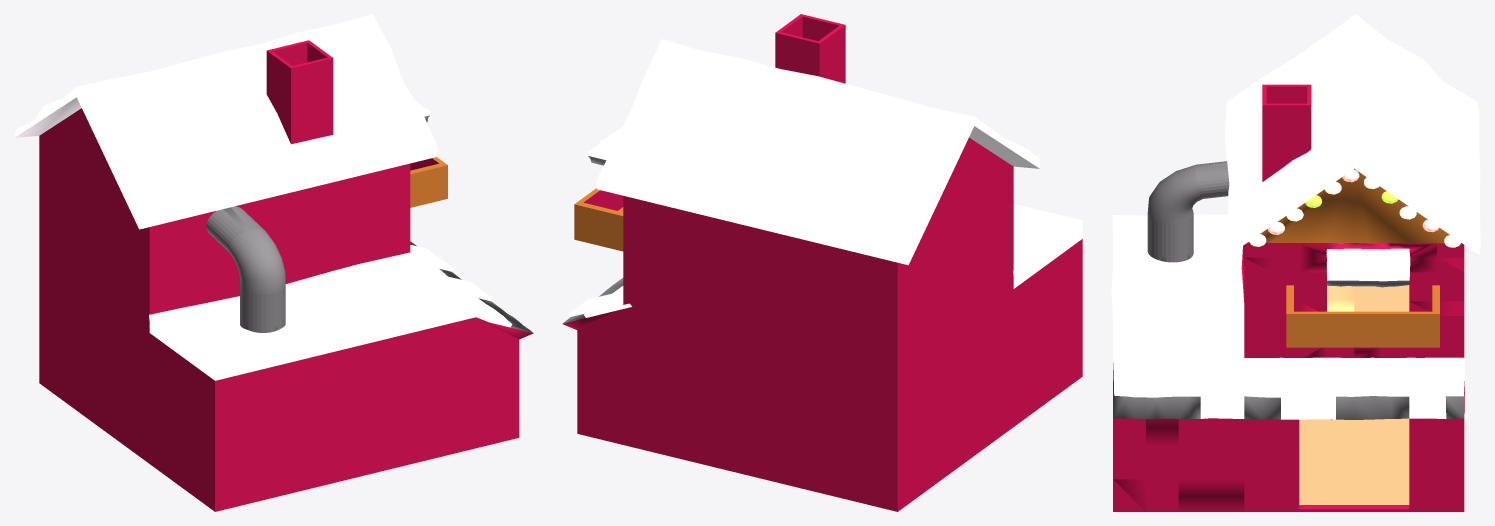
Rendered from xmasFactory.glb.
3 renders of one model, left to right at view 1: azimuth 30°, elevation 25°; view 2: azimuth 150°, elevation 25°; view 3: azimuth 270°, elevation 25°, orthographic. The views are drawn at different scales.
Parts seen in each view (by area): view 1: Icosphere.008; view 2: Icosphere.008; view 3: Icosphere.008.
Part boxes in pixels (x1=…): Icosphere.008: x1=14, y1=14, x2=533, y2=511; Icosphere.008: x1=562, y1=14, x2=1082, y2=511; Icosphere.008: x1=1111, y1=14, x2=1480, y2=511.
Bounding box in the file's own units: 7.57 × 7.42 × 7.06.
